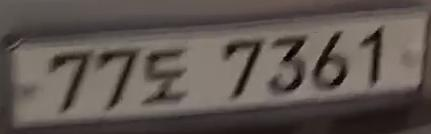1: (356, 22, 393, 90)
3: (267, 34, 308, 93)
6: (310, 27, 353, 93)
7: (44, 49, 94, 114), (96, 45, 141, 111), (221, 36, 266, 101)
도: (142, 48, 191, 106)
